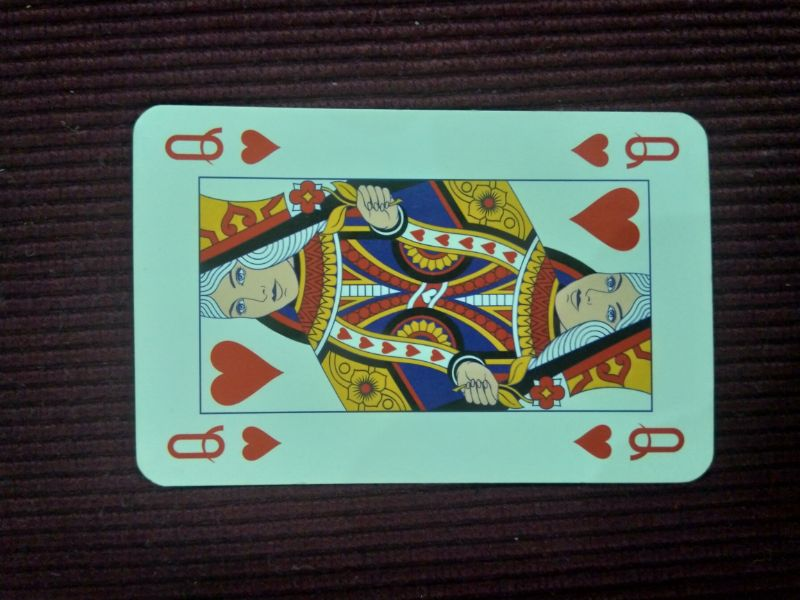Qh: (160, 120, 287, 169), (157, 421, 289, 466), (569, 417, 690, 466), (568, 126, 684, 173)
